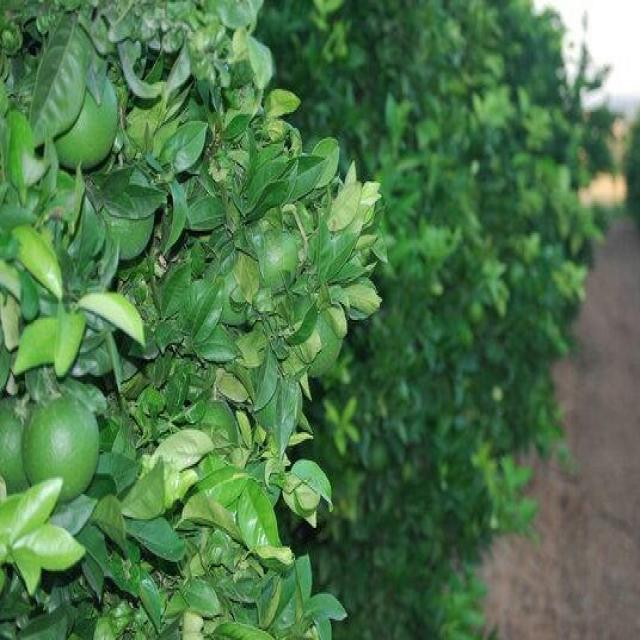Jeruk Belum Matang: (21, 394, 100, 502), (50, 76, 117, 175), (100, 167, 154, 260), (0, 396, 38, 494), (300, 309, 346, 375), (256, 230, 298, 292), (200, 398, 238, 443)
